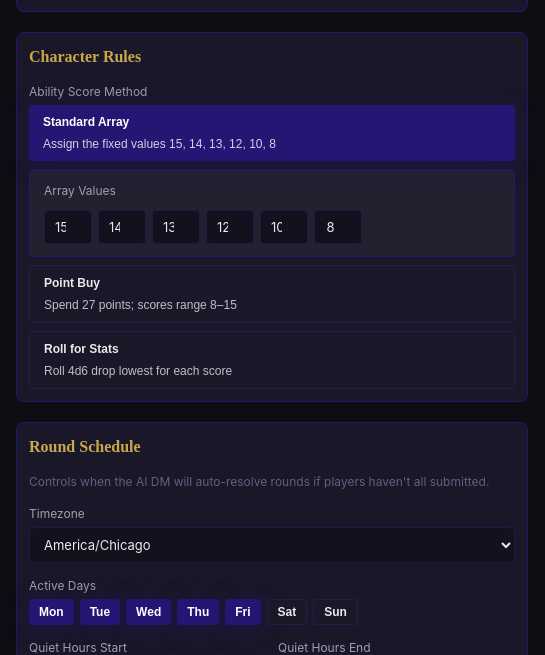
Test: Roll for Stats sub-settings › keep auto-adjusts to dice total when entered keep exceeds dice
(page scrolled)
Click the button "Roll for Stats Roll 4d6 drop lowest for each score": (81, 349) [29, 331, 515, 389]
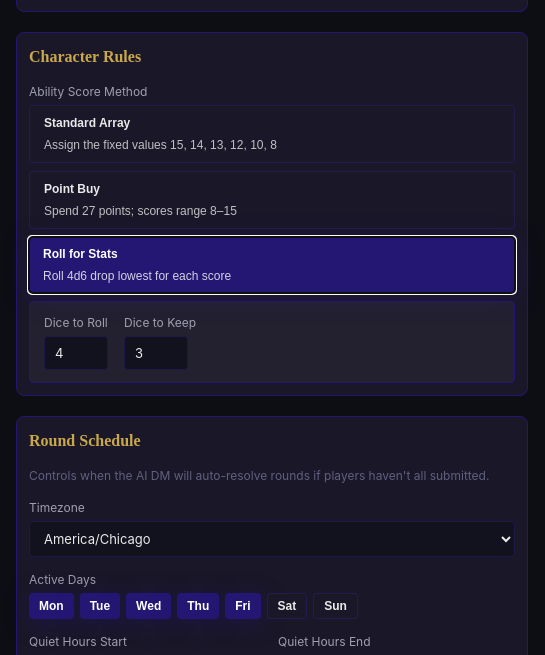
Replace the text in the number field named "dice to keep" with "9": (156, 353) [124, 336, 188, 370]
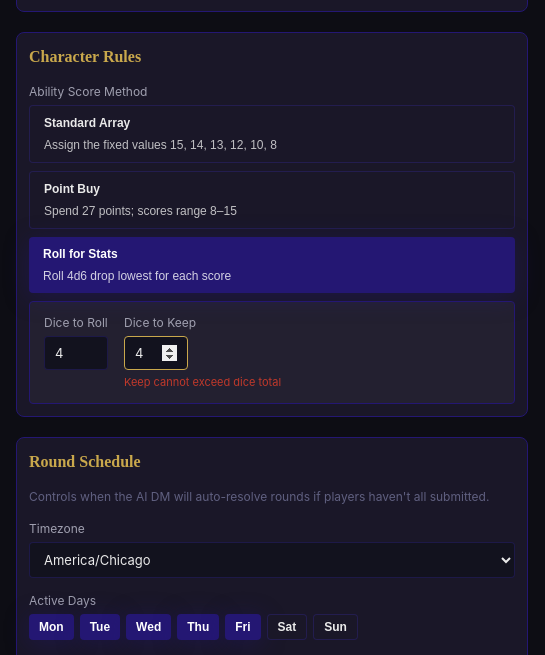
Result: the number field named "dice to keep" holds "4" at [124, 336, 188, 370]
